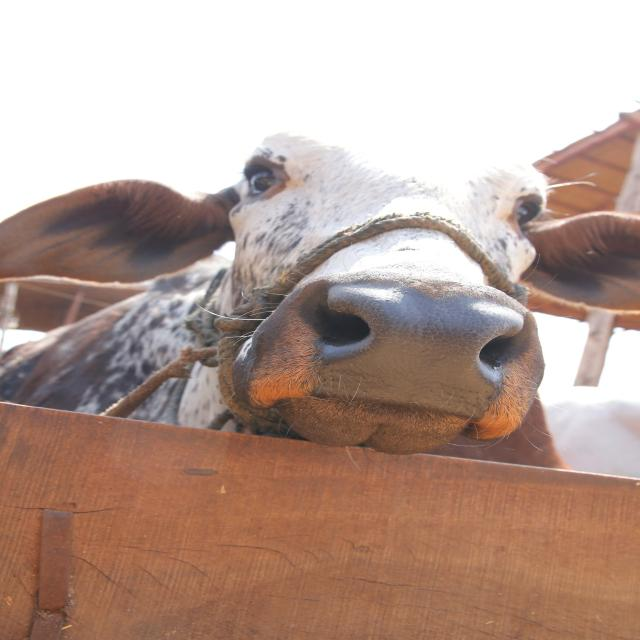muzzles: (306, 276, 532, 423)
